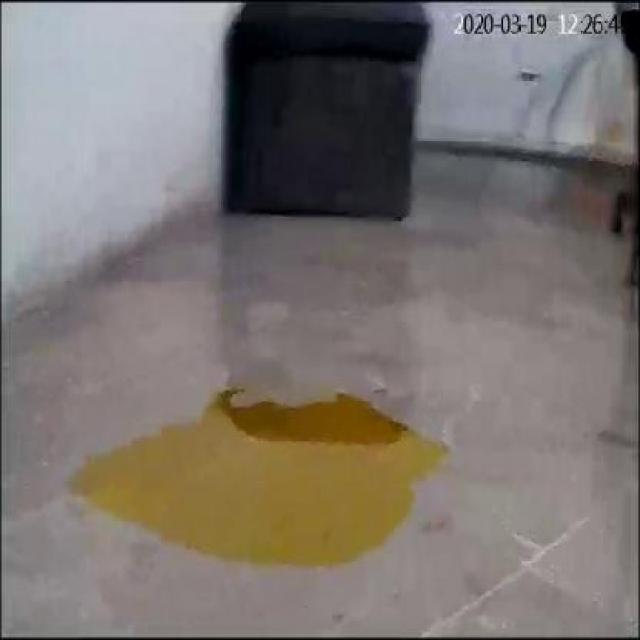spill: (64, 393, 443, 570)
